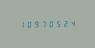five: (52, 19, 58, 27)
four: (66, 19, 72, 27)
nine: (31, 20, 37, 28)
one: (17, 20, 23, 28)
seven: (38, 20, 44, 28)
two: (59, 19, 65, 27)
zero: (24, 20, 30, 28), (45, 20, 51, 27)
